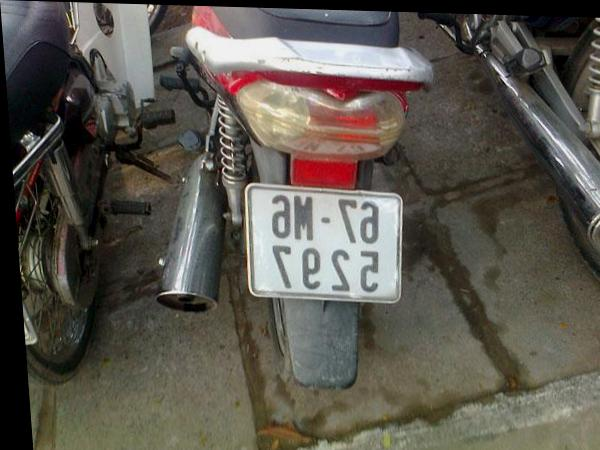License_Plate: (241, 184, 411, 301)
